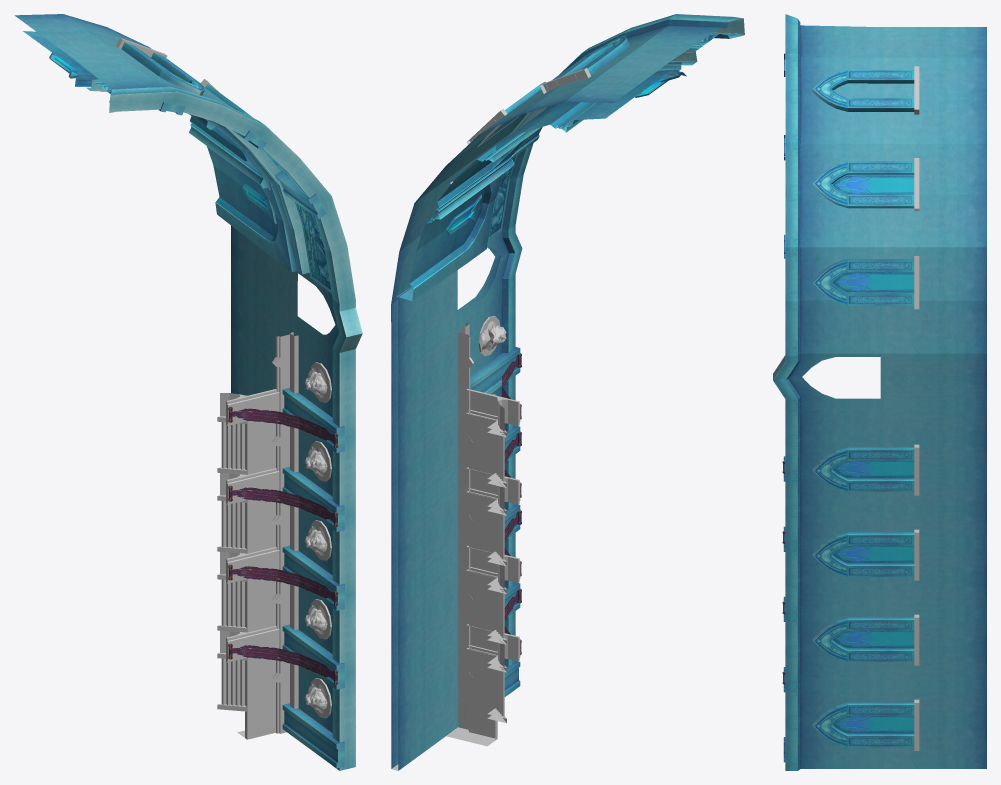
The model's file is huodong_fuben_660_qiangbi_02.obj.
3 views of the same model, side by side, from view 1: azimuth 30°, elevation 25°; view 2: azimuth 150°, elevation 25°; view 3: azimuth 270°, elevation 25° (orthographic). The views are drawn at different scales.
Parts seen in each view (by area): view 1: huodong_fuben_660_qiangbi; view 2: huodong_fuben_660_qiangbi; view 3: huodong_fuben_660_qiangbi.
Boxes of the visible parts, x1,y1,x2,y2 form: huodong_fuben_660_qiangbi: [14, 14, 362, 770]; huodong_fuben_660_qiangbi: [391, 14, 744, 770]; huodong_fuben_660_qiangbi: [773, 14, 986, 770].
Size of the model in its own units: 1539 by 4310 by 1285.
